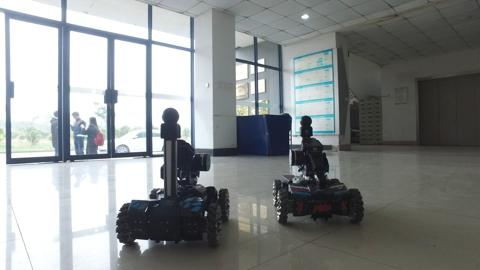chariot: (104, 106, 234, 253), (265, 109, 372, 232)
